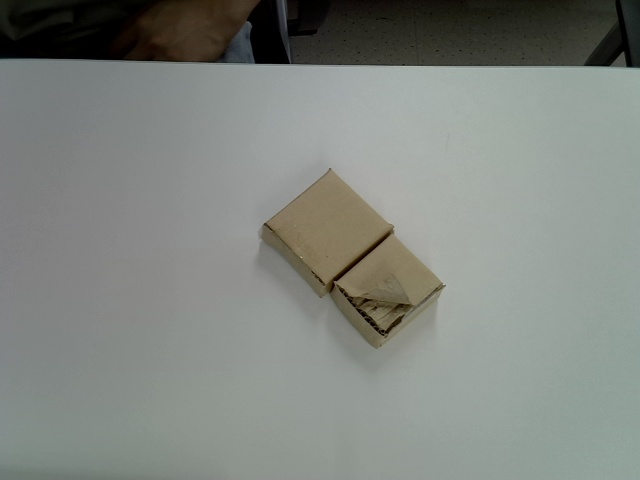defect: (332, 234, 444, 349)
normal: (259, 168, 395, 296)
